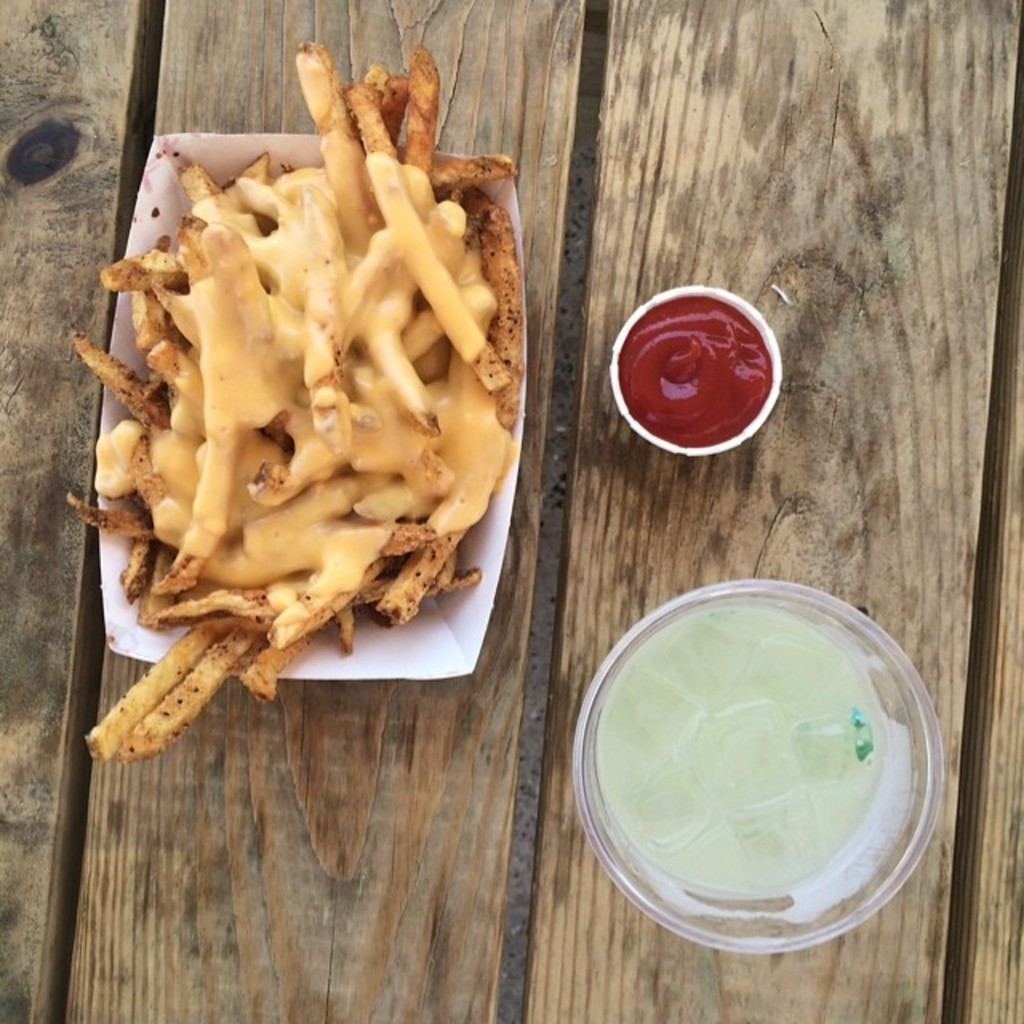French fries: (60, 39, 526, 768)
